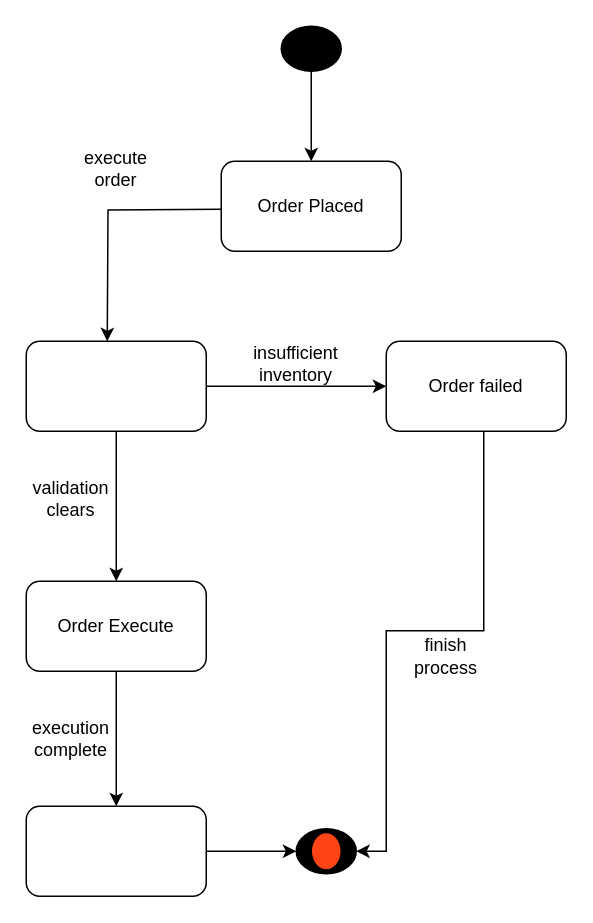
The diagram is 593 pixels wide and 923 high, and some of its shapes have lost their labels. The shapes that lost their labels are listed below. From the top down, each one's box as (x1, y1, x2, y2) in pixels, then its label:
(25, 340, 206, 431): Inventory validation
(25, 805, 206, 896): Completed
